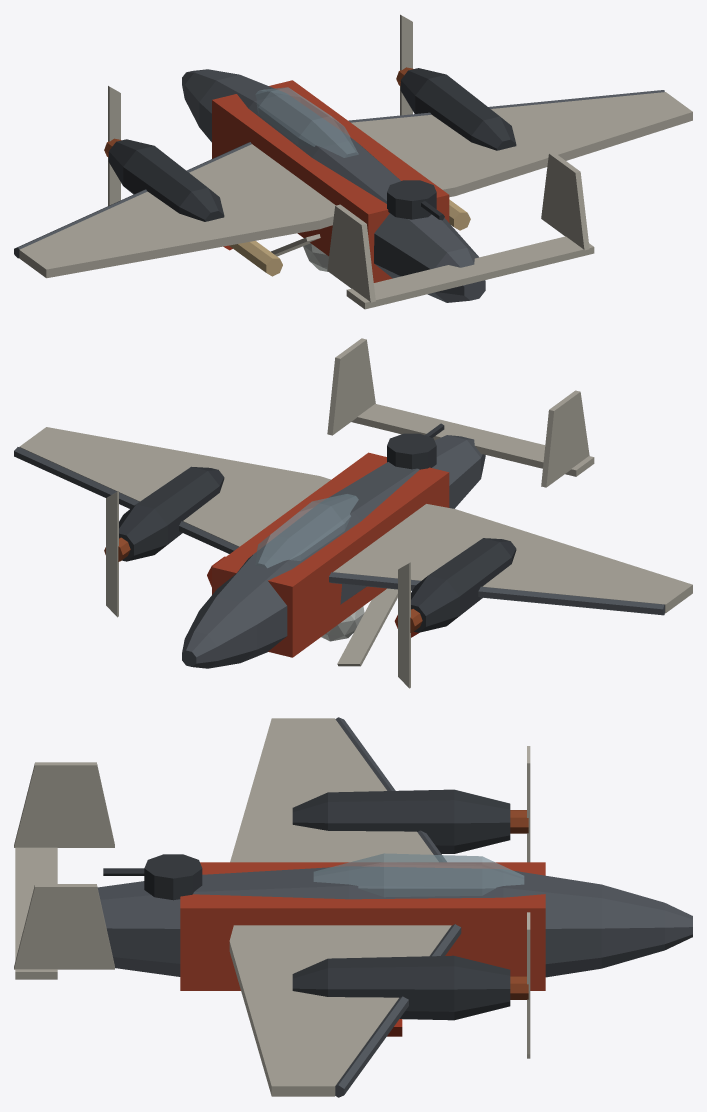
File: bomber_combine.glb
3 views of the same model, one above another, from view 1: azimuth 30°, elevation 25°; view 2: azimuth 150°, elevation 25°; view 3: azimuth 270°, elevation 25° (orthographic). The views are drawn at different scales.
Parts seen in each view (by area): view 1: bomber_combine_body; view 2: bomber_combine_body; view 3: bomber_combine_body.
Part boxes in pixels (x1,y1,x2,y2): bomber_combine_body: (14, 14, 692, 309); bomber_combine_body: (14, 338, 692, 688); bomber_combine_body: (14, 717, 692, 1097).
Bounding box in the file's own units: 12.45 × 3.16 × 9.67.
